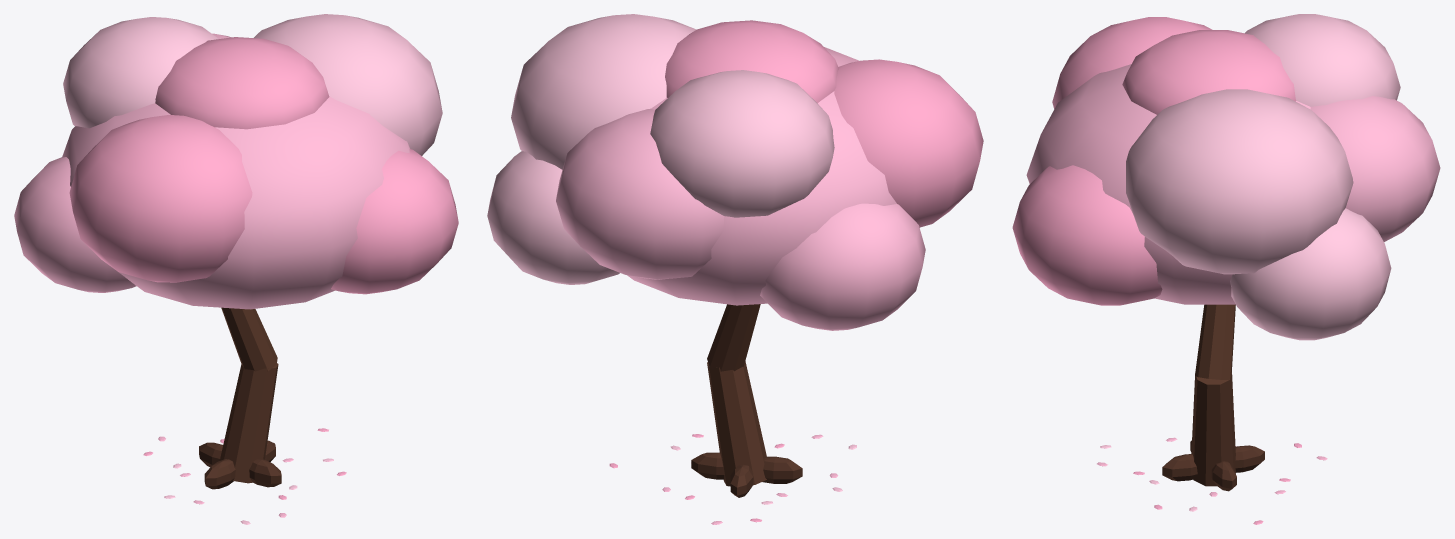
Rendered from Planta_CherryBlossom.fbx.
3 views of the same model, side by side, from view 1: azimuth 30°, elevation 25°; view 2: azimuth 150°, elevation 25°; view 3: azimuth 270°, elevation 25° (orthographic). The views are drawn at different scales.
Visible parts, largest first — view 1: Copa_CherryBlossom, Corpo_CherryBlossom; view 2: Copa_CherryBlossom, Corpo_CherryBlossom; view 3: Copa_CherryBlossom, Corpo_CherryBlossom.
Boxes of the visible parts, box(x1,y1,x2,y2) form: Copa_CherryBlossom: box(14, 14, 458, 309); Corpo_CherryBlossom: box(143, 307, 346, 524); Copa_CherryBlossom: box(487, 14, 983, 330); Corpo_CherryBlossom: box(609, 304, 856, 524); Copa_CherryBlossom: box(1012, 14, 1440, 340); Corpo_CherryBlossom: box(1097, 304, 1327, 524).
Size of the model in its own units: 6.23 by 6.65 by 5.95.
1 material, 1 textured.
